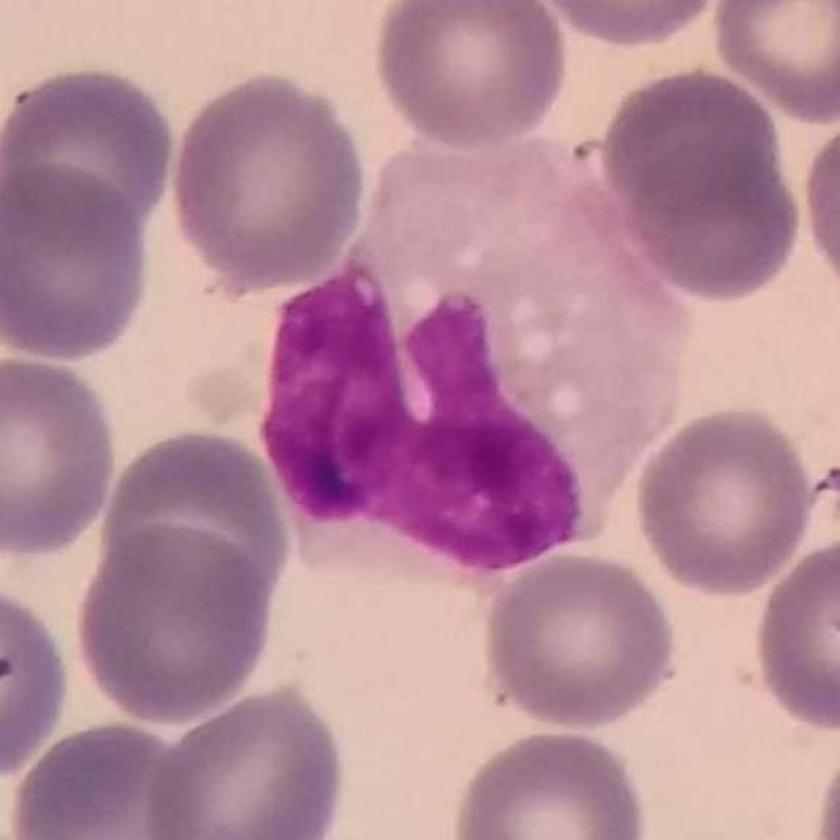monocyte: (261, 121, 710, 596)
